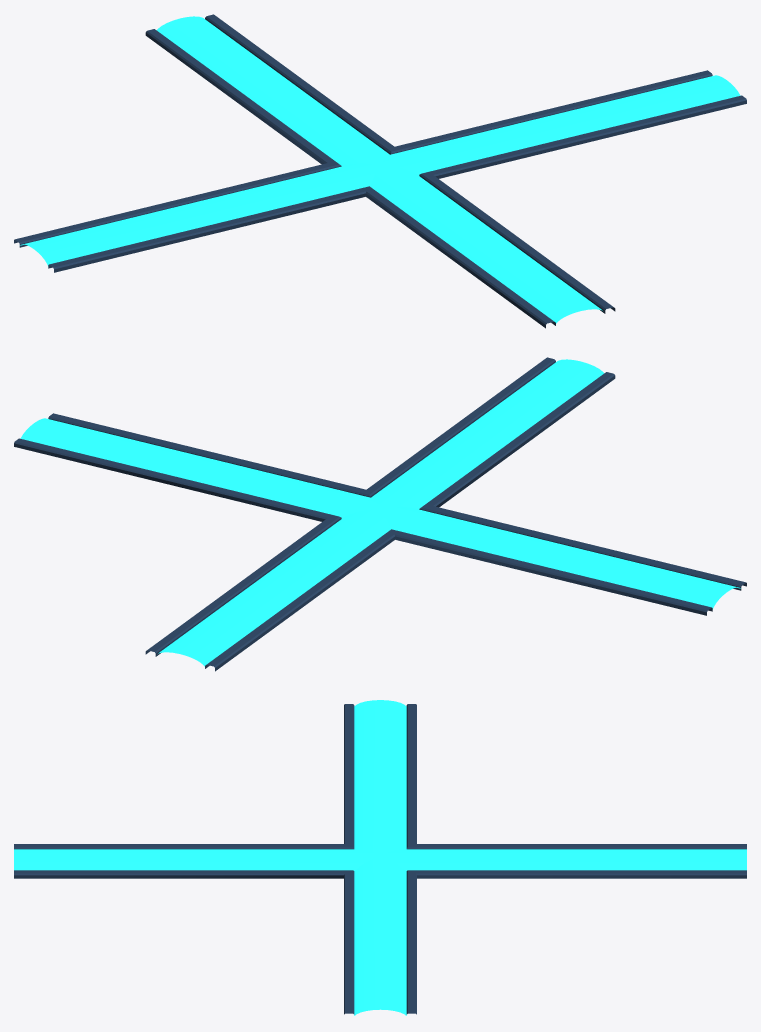
The model's file is Light_Trim_01_SquareCrossX.glb.
3 renders of one model, top to bottom at view 1: azimuth 30°, elevation 25°; view 2: azimuth 150°, elevation 25°; view 3: azimuth 270°, elevation 25°, orthographic. The views are drawn at different scales.
Parts seen in each view (by area): view 1: Light_Trim_01_SquareCrossX.001; view 2: Light_Trim_01_SquareCrossX.001; view 3: Light_Trim_01_SquareCrossX.001.
Boxes of the visible parts, <box> form: Light_Trim_01_SquareCrossX.001: <box>14,14,746,328</box>; Light_Trim_01_SquareCrossX.001: <box>14,357,746,671</box>; Light_Trim_01_SquareCrossX.001: <box>14,700,746,1015</box>.
Size of the model in its own units: 1 by 0.0123 by 1.
